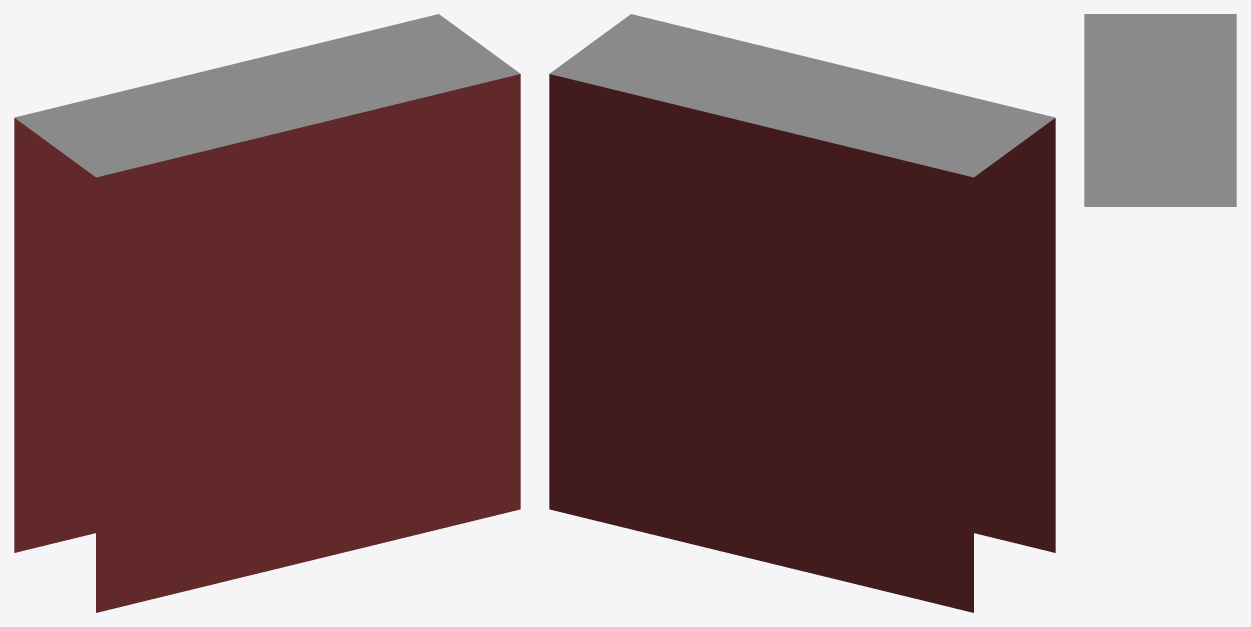
Rendered from Hallway Walls.FBX.
The picture shows the model from 3 angles, left to right: view 1: azimuth 30°, elevation 25°; view 2: azimuth 150°, elevation 25°; view 3: azimuth 270°, elevation 25°; orthographic projection. The views are drawn at different scales.
Parts seen in each view (by area): view 1: Box002; view 2: Box002; view 3: Box002.
Boxes of the visible parts, <box> form: Box002: <box>14,14,520,612</box>; Box002: <box>549,14,1055,612</box>; Box002: <box>1084,14,1236,206</box>.
Size of the model in its own units: 30 by 29.4 by 10.02.
